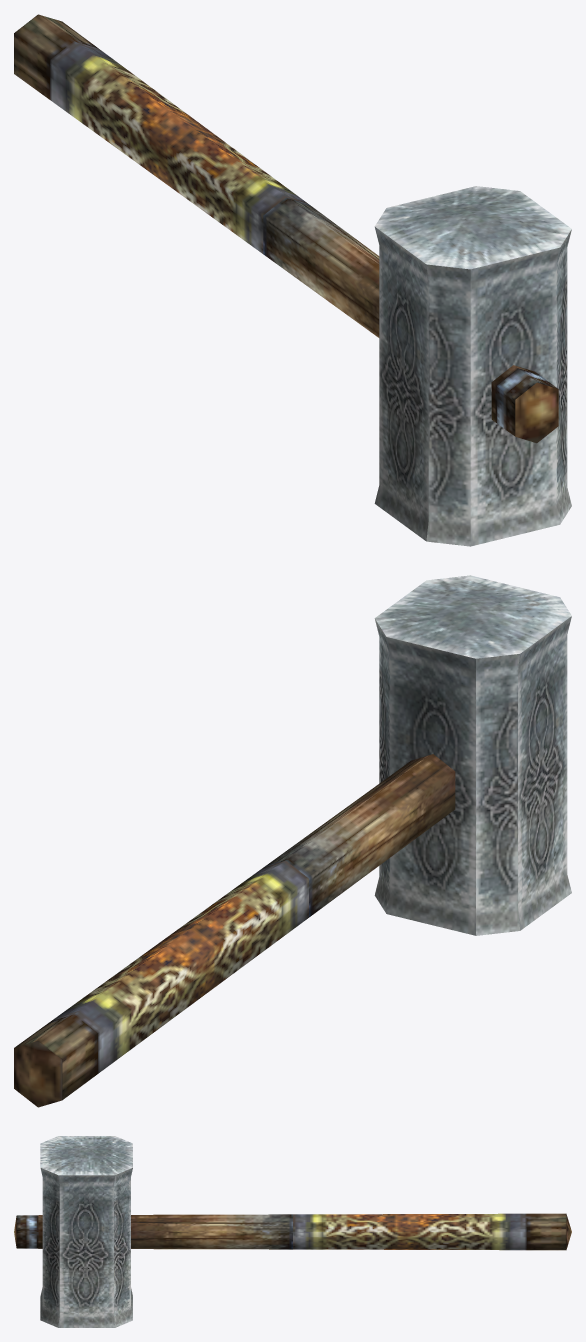
The model's file is waj15.glb.
The picture shows the model from 3 angles, top to bottom: view 1: azimuth 30°, elevation 25°; view 2: azimuth 150°, elevation 25°; view 3: azimuth 270°, elevation 25°; orthographic projection. The views are drawn at different scales.
Visible parts, largest first — view 1: waj15-col; view 2: waj15-col; view 3: waj15-col.
Part boxes in pixels (x1,y1,x2,y2): waj15-col: (14,14,571,546); waj15-col: (14,575,571,1107); waj15-col: (14,1136,571,1327).
Bounding box in the file's own units: 0.1435 × 0.28 × 0.8644.
Materials: 1 (1 with a texture image).
